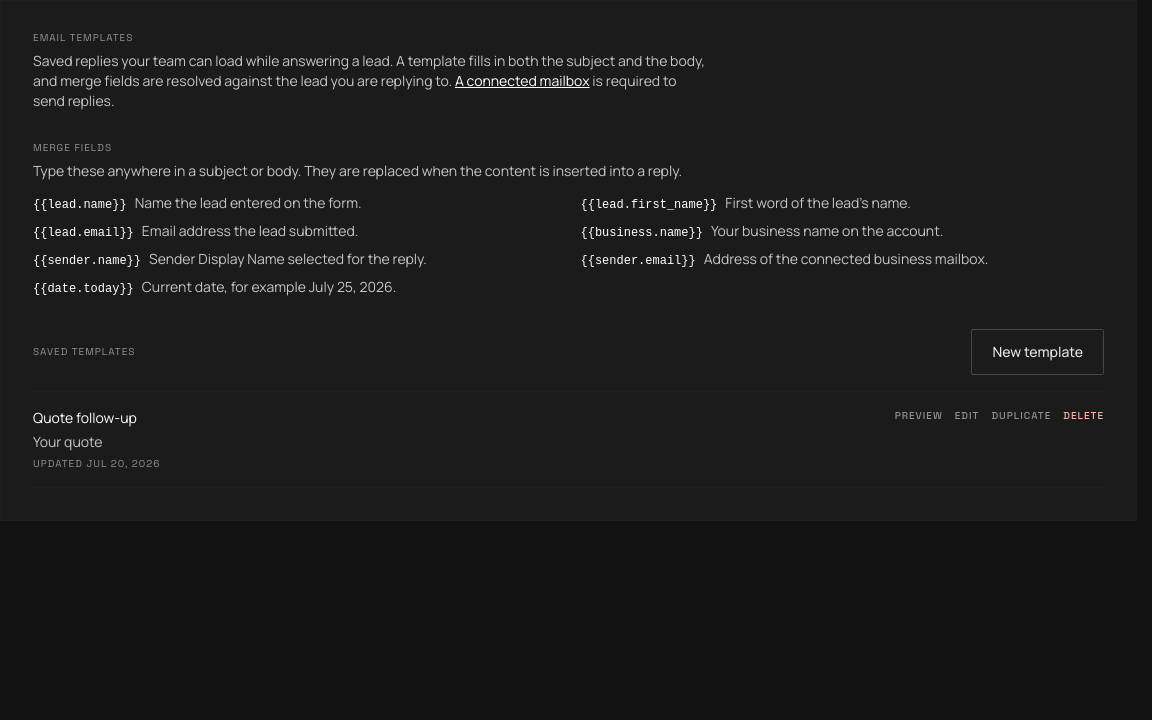
Scenario: EmailContentSettingsSection › shows the API message when a write fails
This screenshot has width=1152, height=720.
Check: the text "Quote follow-up" is shown, box [33,408,137,427]
Click the button "Duplicate".
click(1021, 416)  # box [991,408,1051,423]
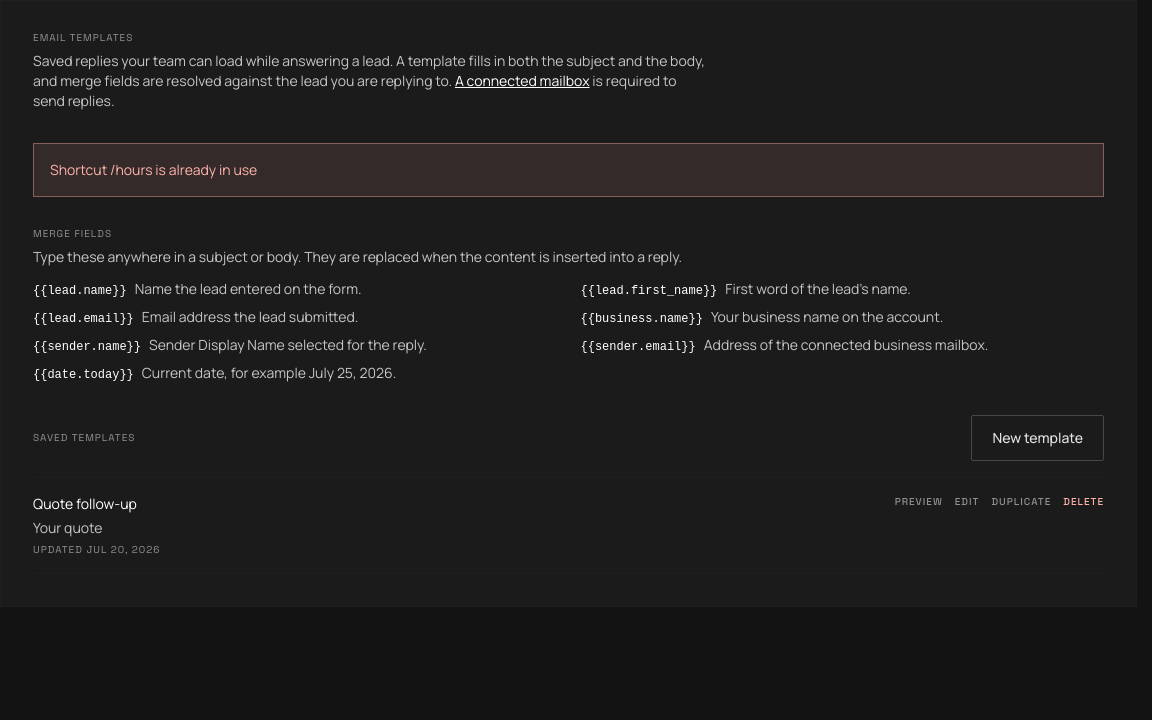
Check: the text "Shortcut /hours is already in use" is shown, box [33,143,1104,197]
